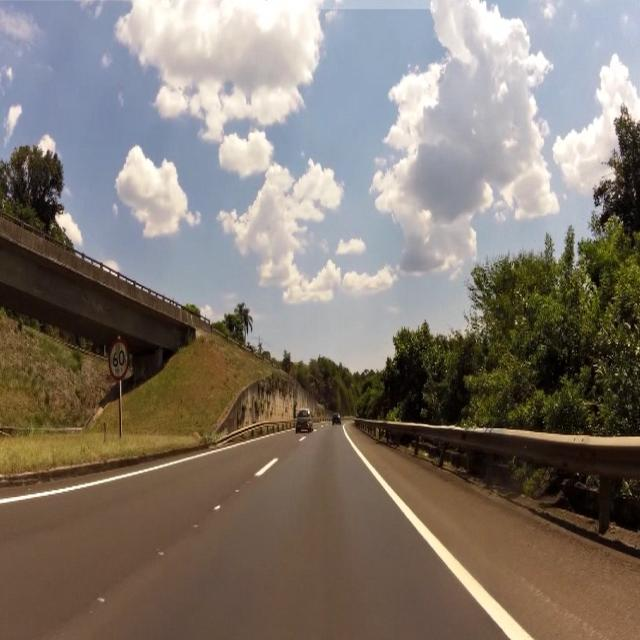R-19: (111, 336, 131, 380)
